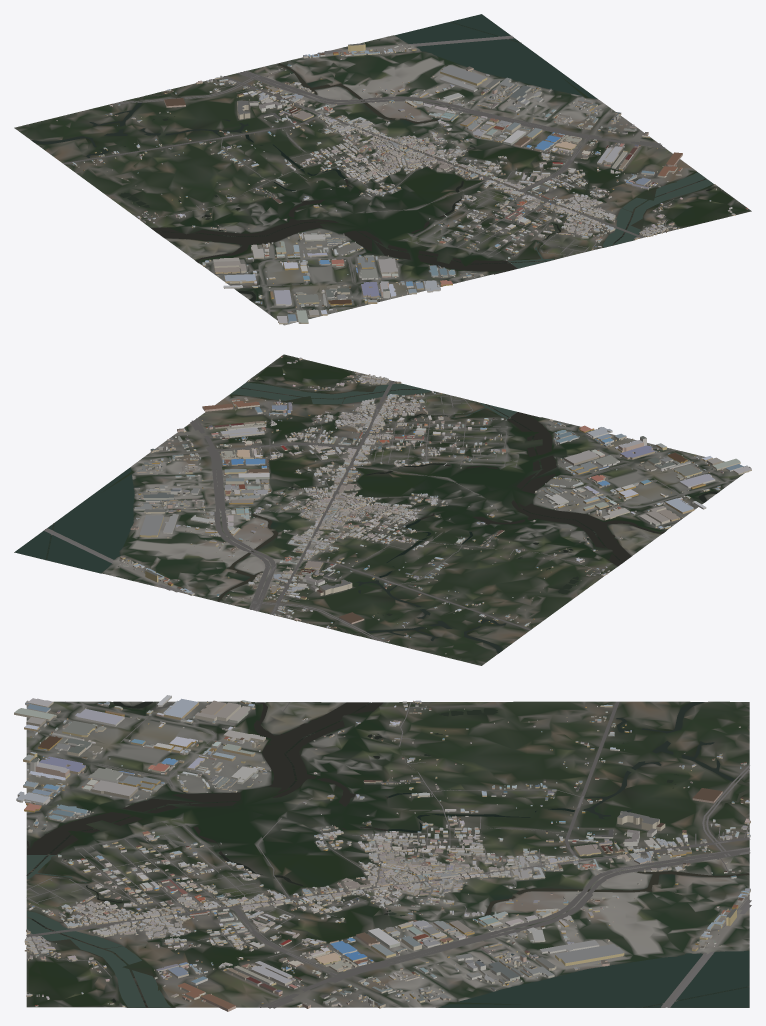
3 renders of one model, top to bottom at view 1: azimuth 30°, elevation 25°; view 2: azimuth 150°, elevation 25°; view 3: azimuth 270°, elevation 25°, orthographic. The views are drawn at different scales.
Visible parts, largest first — view 1: ground, buildings, water, roads; view 2: ground, buildings, water, roads; view 3: ground, buildings, water, roads.
Boxes of the visible parts, <box> form: ground: <box>14,21,751,325</box>; buildings: <box>56,43,748,325</box>; water: <box>31,14,714,301</box>; roads: <box>63,35,677,314</box>; ground: <box>14,354,751,665</box>; buildings: <box>117,356,751,654</box>; water: <box>15,380,718,653</box>; roads: <box>43,373,736,642</box>; ground: <box>26,701,749,1007</box>; buildings: <box>14,695,750,1011</box>; water: <box>26,701,749,1007</box>; roads: <box>26,701,751,1008</box>.
Size of the model in its own units: 2883 by 48.4 by 2860.
